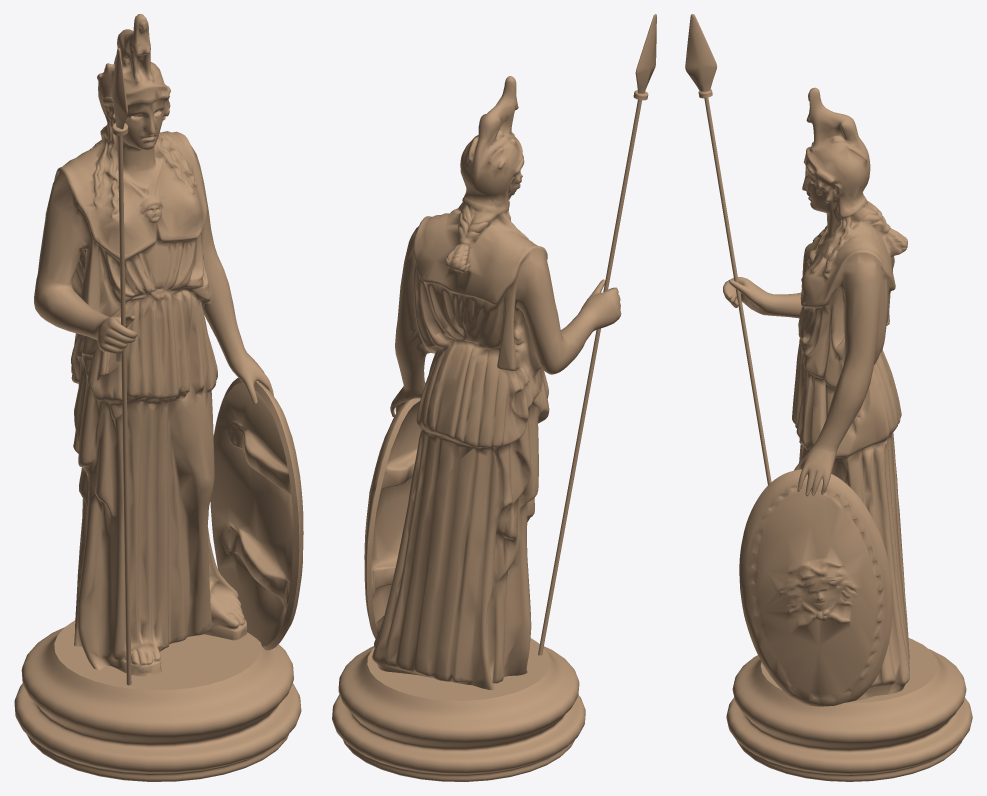
File: greek_warrior_goddess.glb
3 renders of one model, left to right at view 1: azimuth 30°, elevation 25°; view 2: azimuth 150°, elevation 25°; view 3: azimuth 270°, elevation 25°, orthographic. The views are drawn at different scales.
Visible parts, largest first — view 1: object 2, base, ATHESHIE, ATHESPEA, ATHEHEAD; view 2: object 2, base, ATHESHIE, ATHESPEA, ATHEHEAD; view 3: object 2, ATHESHIE, base, ATHESPEA, ATHEHEAD.
Boxes of the visible parts, x1,y1,x2,y2 form: object 2: (34,14,273,676); base: (14,620,301,781); ATHESHIE: (210,377,303,650); ATHESPEA: (118,135,131,685); ATHEHEAD: (111,48,128,135); object 2: (372,76,621,690); base: (332,638,585,781); ATHESHIE: (364,398,421,638); ATHESPEA: (538,99,641,655); ATHEHEAD: (633,14,656,100); object 2: (723,87,909,700); ATHESHIE: (739,469,893,706); base: (726,638,972,781); ATHESPEA: (704,97,771,484); ATHEHEAD: (685,14,717,98).
Size of the model in its own units: 0.1166 by 0.3389 by 0.1321.
